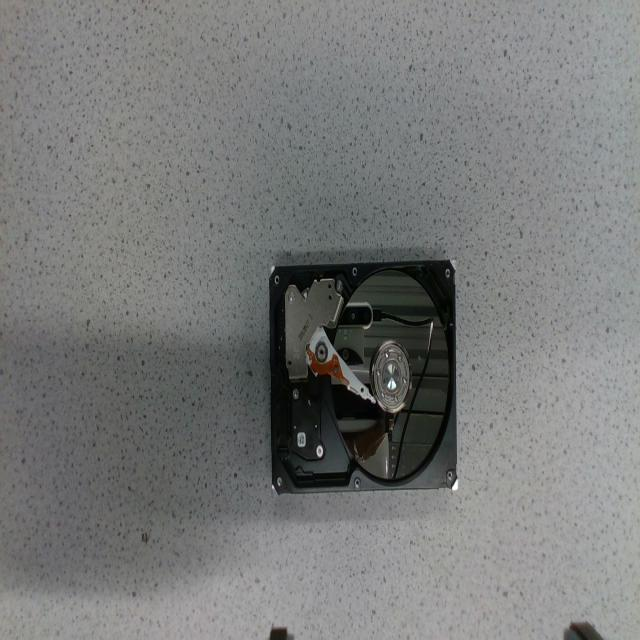actuator arm: (306, 328, 374, 401)
actuator axis: (315, 341, 328, 361)
case: (268, 259, 456, 493)
magnet: (285, 279, 344, 380)
pcb connector: (290, 385, 324, 460)
platter: (330, 267, 449, 477)
platter holder: (371, 340, 411, 412)
screw: (316, 444, 324, 459), (393, 394, 400, 405), (292, 388, 298, 399), (384, 349, 390, 359), (376, 366, 382, 376), (402, 375, 407, 384), (290, 292, 294, 302), (398, 354, 402, 362), (381, 390, 385, 398)
